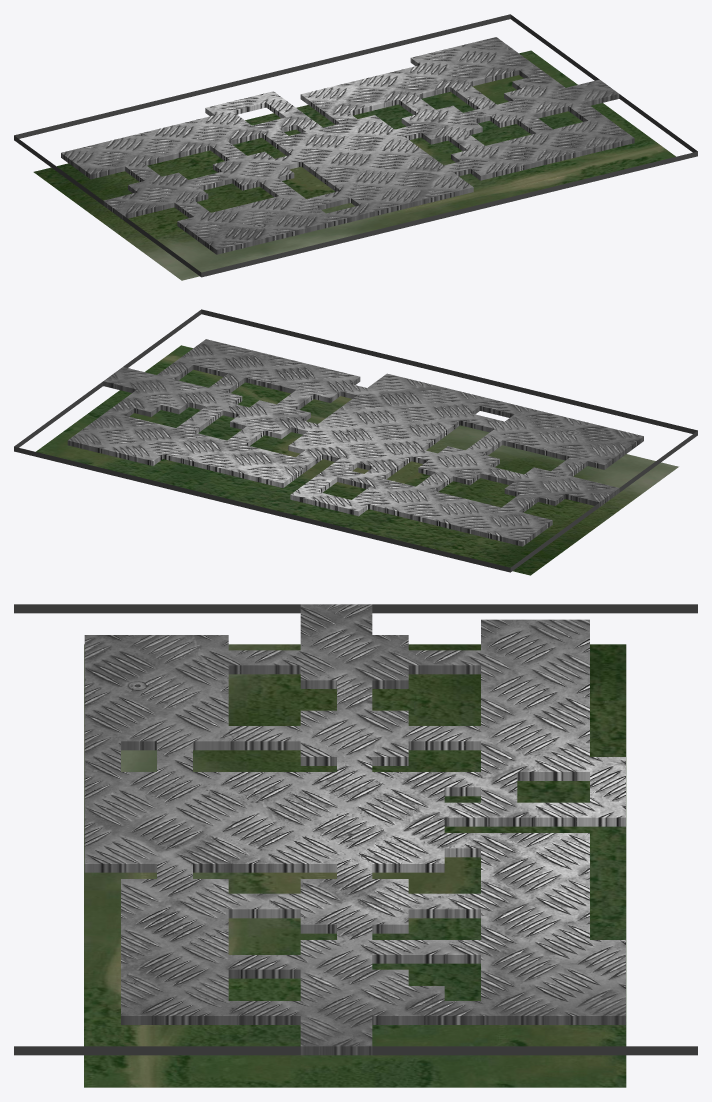
The model's file is skyway.obj.
3 views of the same model, one above another, from view 1: azimuth 30°, elevation 25°; view 2: azimuth 150°, elevation 25°; view 3: azimuth 270°, elevation 25° (orthographic). The views are drawn at different scales.
Visible parts, largest first — view 1: Plane, Plane.001; view 2: Plane, Plane.001; view 3: Plane, Plane.001.
Part boxes in pixels (x1=…): Plane: x1=14, y1=14, x2=697, y2=277; Plane.001: x1=33, y1=50, x2=675, y2=280; Plane: x1=14, y1=309, x2=697, y2=572; Plane.001: x1=36, y1=345, x2=678, y2=575; Plane: x1=14, y1=604, x2=697, y2=1055; Plane.001: x1=84, y1=644, x2=626, y2=1087.
Size of the model in its own units: 29.09 by 1.24 by 18.97.
